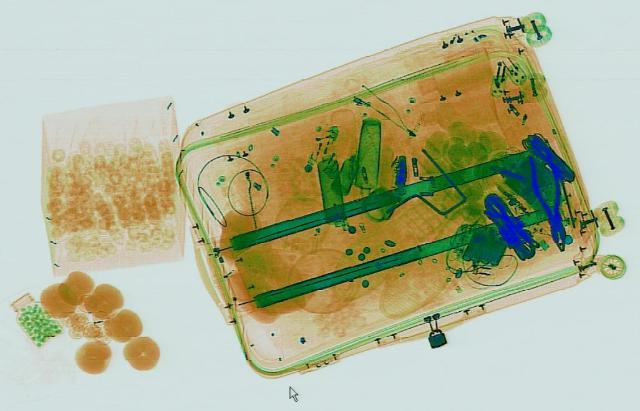Pliers: (520, 152, 580, 251)
